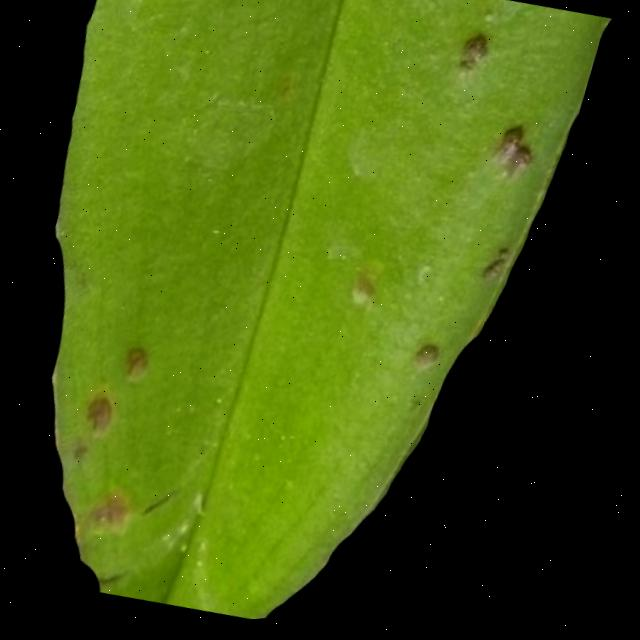mite: (368, 29, 579, 392), (426, 32, 571, 192), (68, 335, 163, 475), (144, 483, 187, 526), (73, 438, 99, 467)
sunburn: (485, 126, 549, 193), (451, 33, 500, 87)
